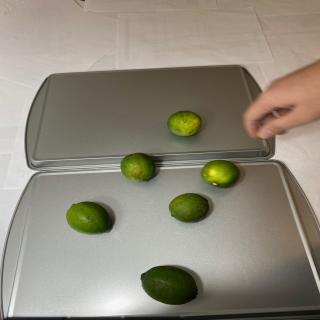Lemon: (140, 265, 198, 305), (66, 201, 110, 235), (168, 193, 210, 223), (201, 160, 240, 188), (120, 152, 156, 182), (167, 110, 202, 136)
